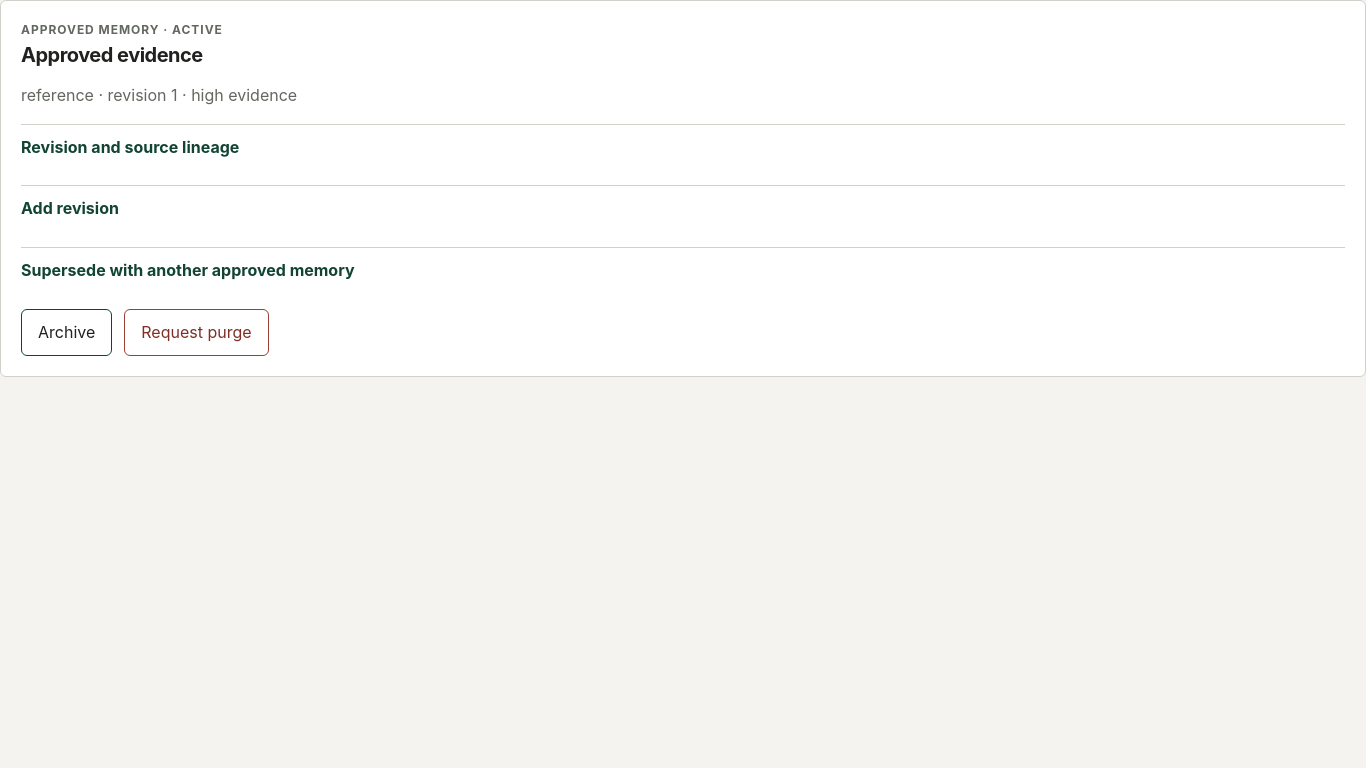
Test: MemoryLibraryView › fails closed when terminal purge identity does not match the memory
Check: the heading "Approved evidence" is shown, box 21,43 -> 203,67
Click the button "Request purge".
click(196, 332)  # box 124,309 -> 269,356
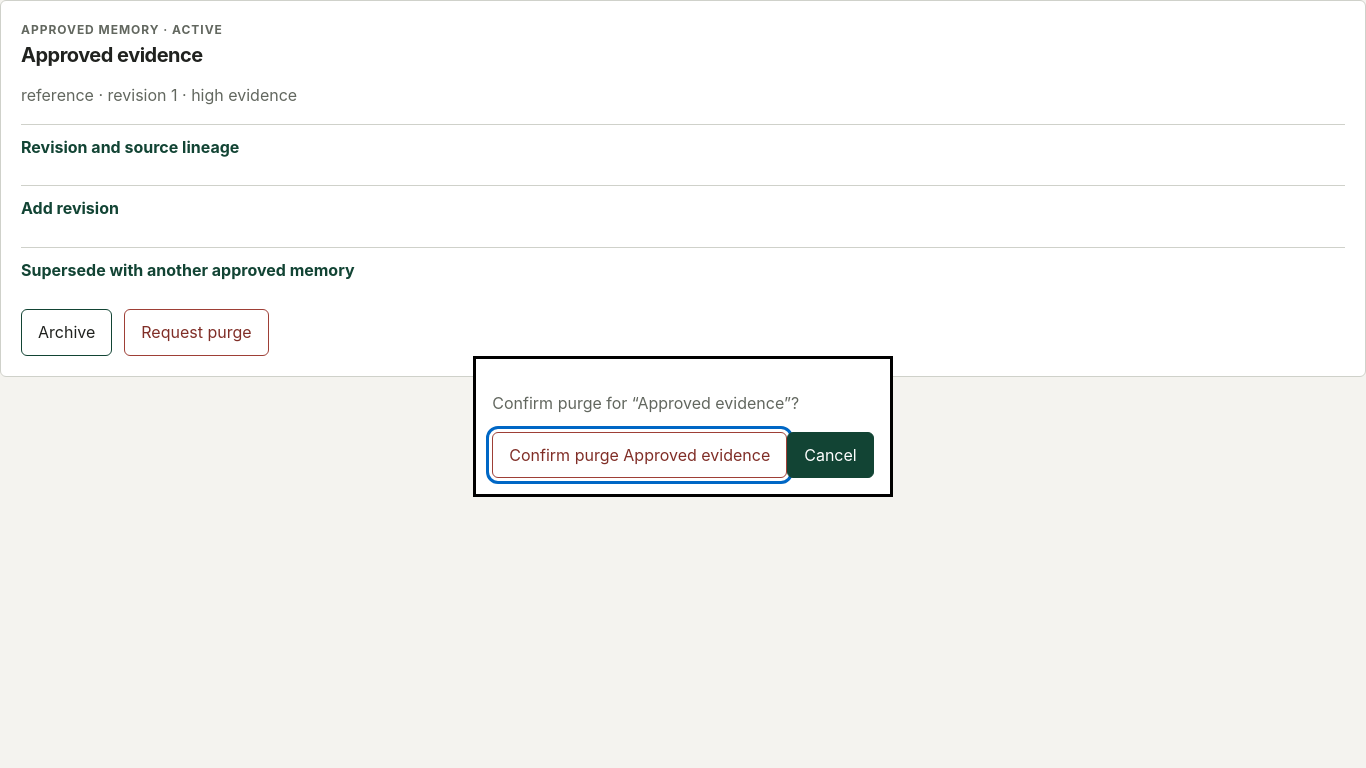
Click the button "Confirm purge Approved evidence".
click(640, 455)  # box 492,432 -> 787,478
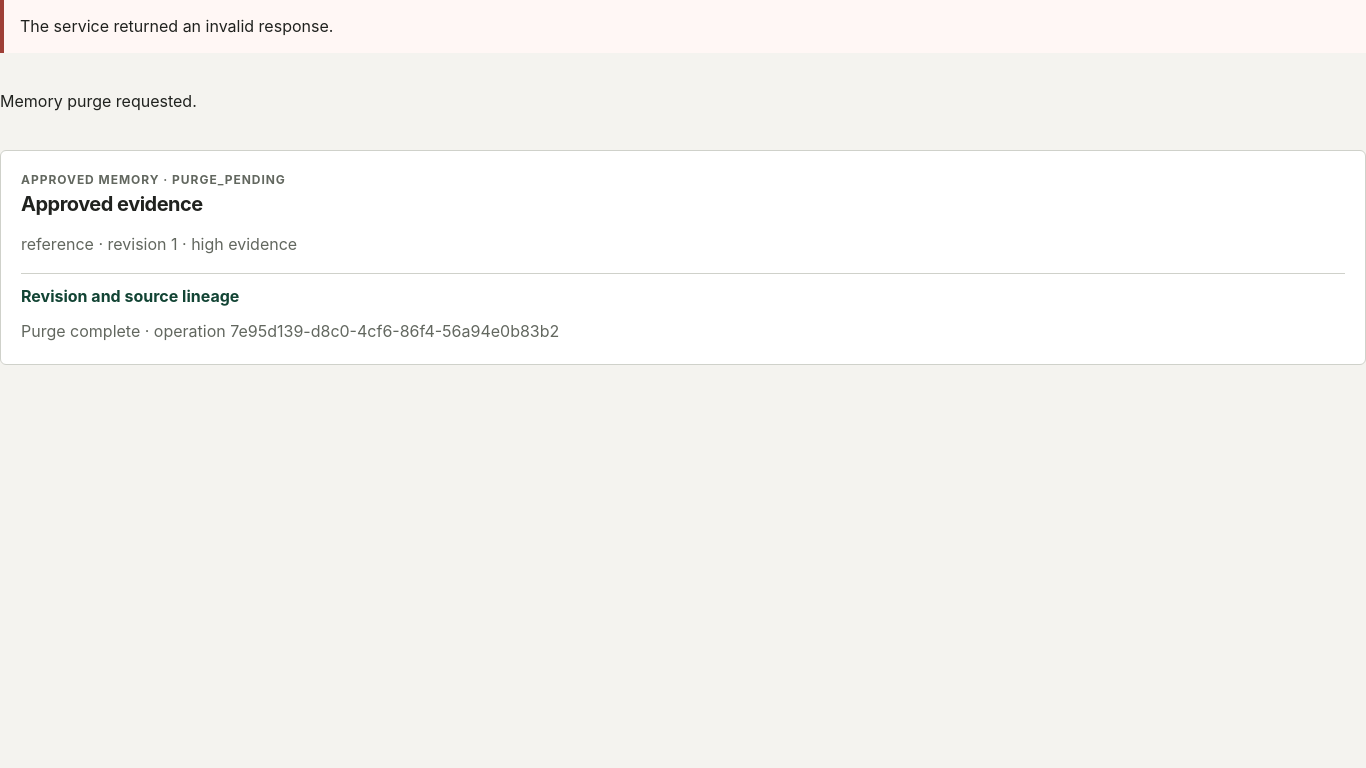
Check: the heading "Approved evidence" is shown, box 21,192 -> 203,216
Check: the message "The service returned an invalid response." is shown, box 0,0 -> 1365,53
